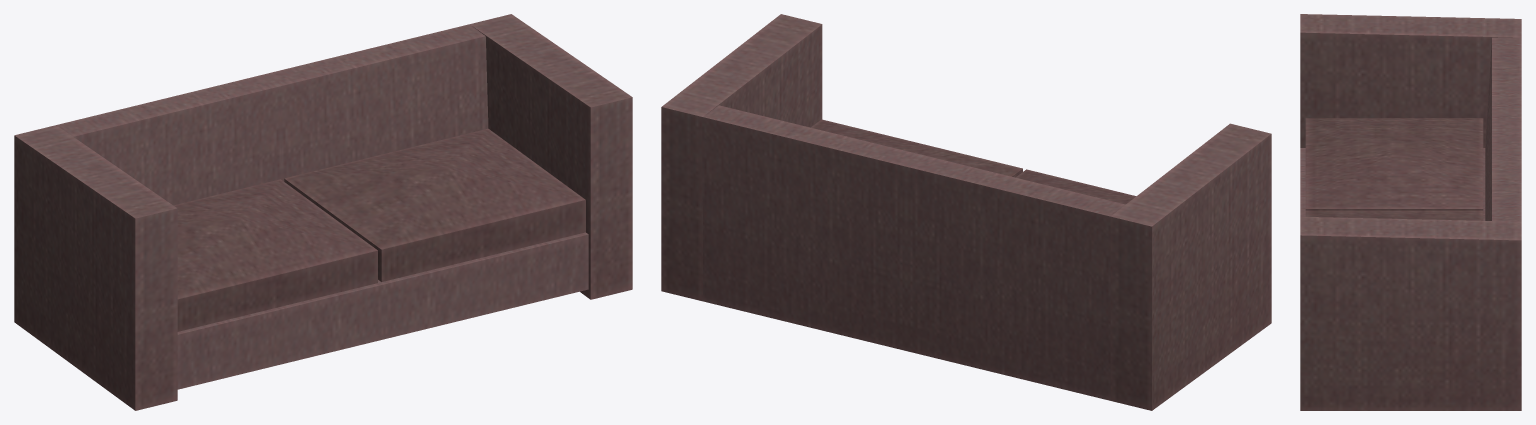
The model's file is Couch_4B.fbx.
3 renders of one model, left to right at view 1: azimuth 30°, elevation 25°; view 2: azimuth 150°, elevation 25°; view 3: azimuth 270°, elevation 25°, orthographic. The views are drawn at different scales.
Visible parts, largest first — view 1: polySurface732; view 2: polySurface732; view 3: polySurface732.
Boxes of the visible parts, left/top/right/bottom form: polySurface732: left=14, top=14, right=632, bottom=410; polySurface732: left=661, top=14, right=1271, bottom=410; polySurface732: left=1300, top=14, right=1521, bottom=410.
Bounding box in the file's own units: 2.84 × 1.05 × 1.2.
